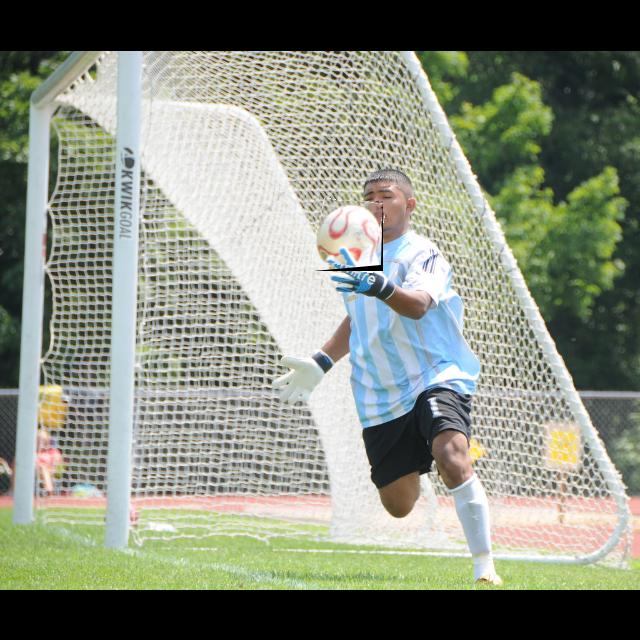Football: (315, 201, 383, 271)
